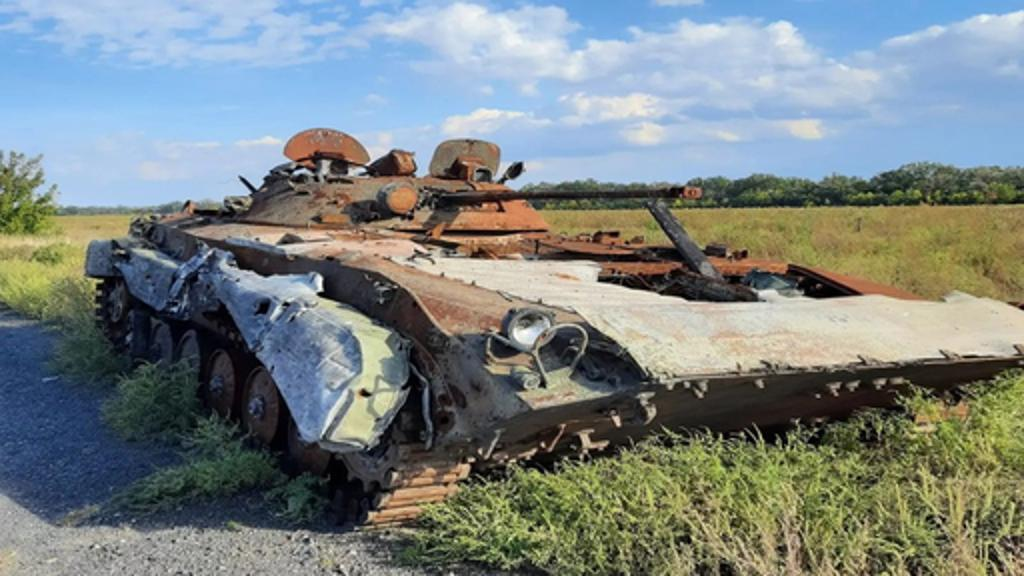APC-IFV: (88, 124, 1022, 508)
